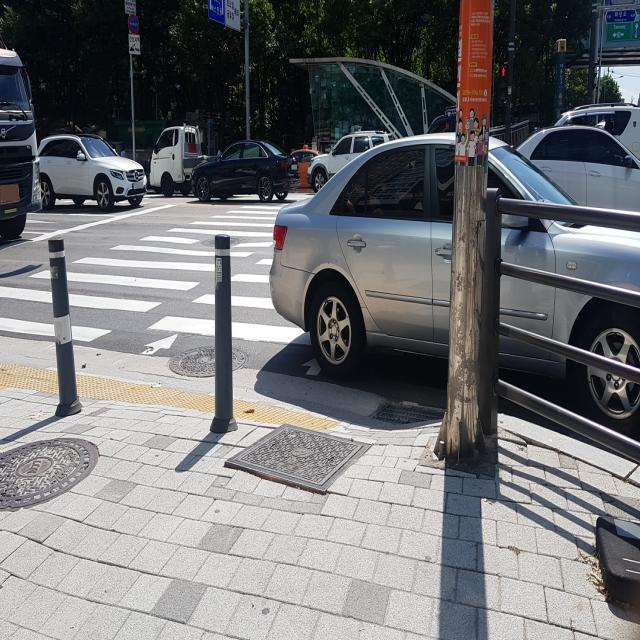빨간불: (499, 65, 507, 100)
횡단보도: (0, 212, 333, 386)
